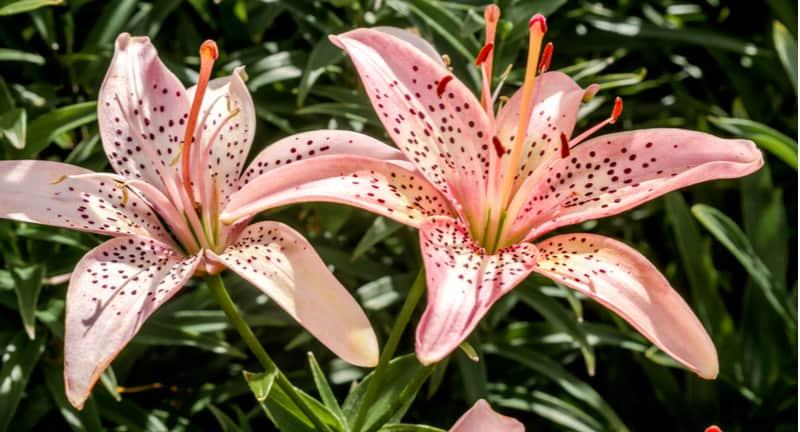lily: (236, 18, 774, 386), (4, 32, 383, 380)
